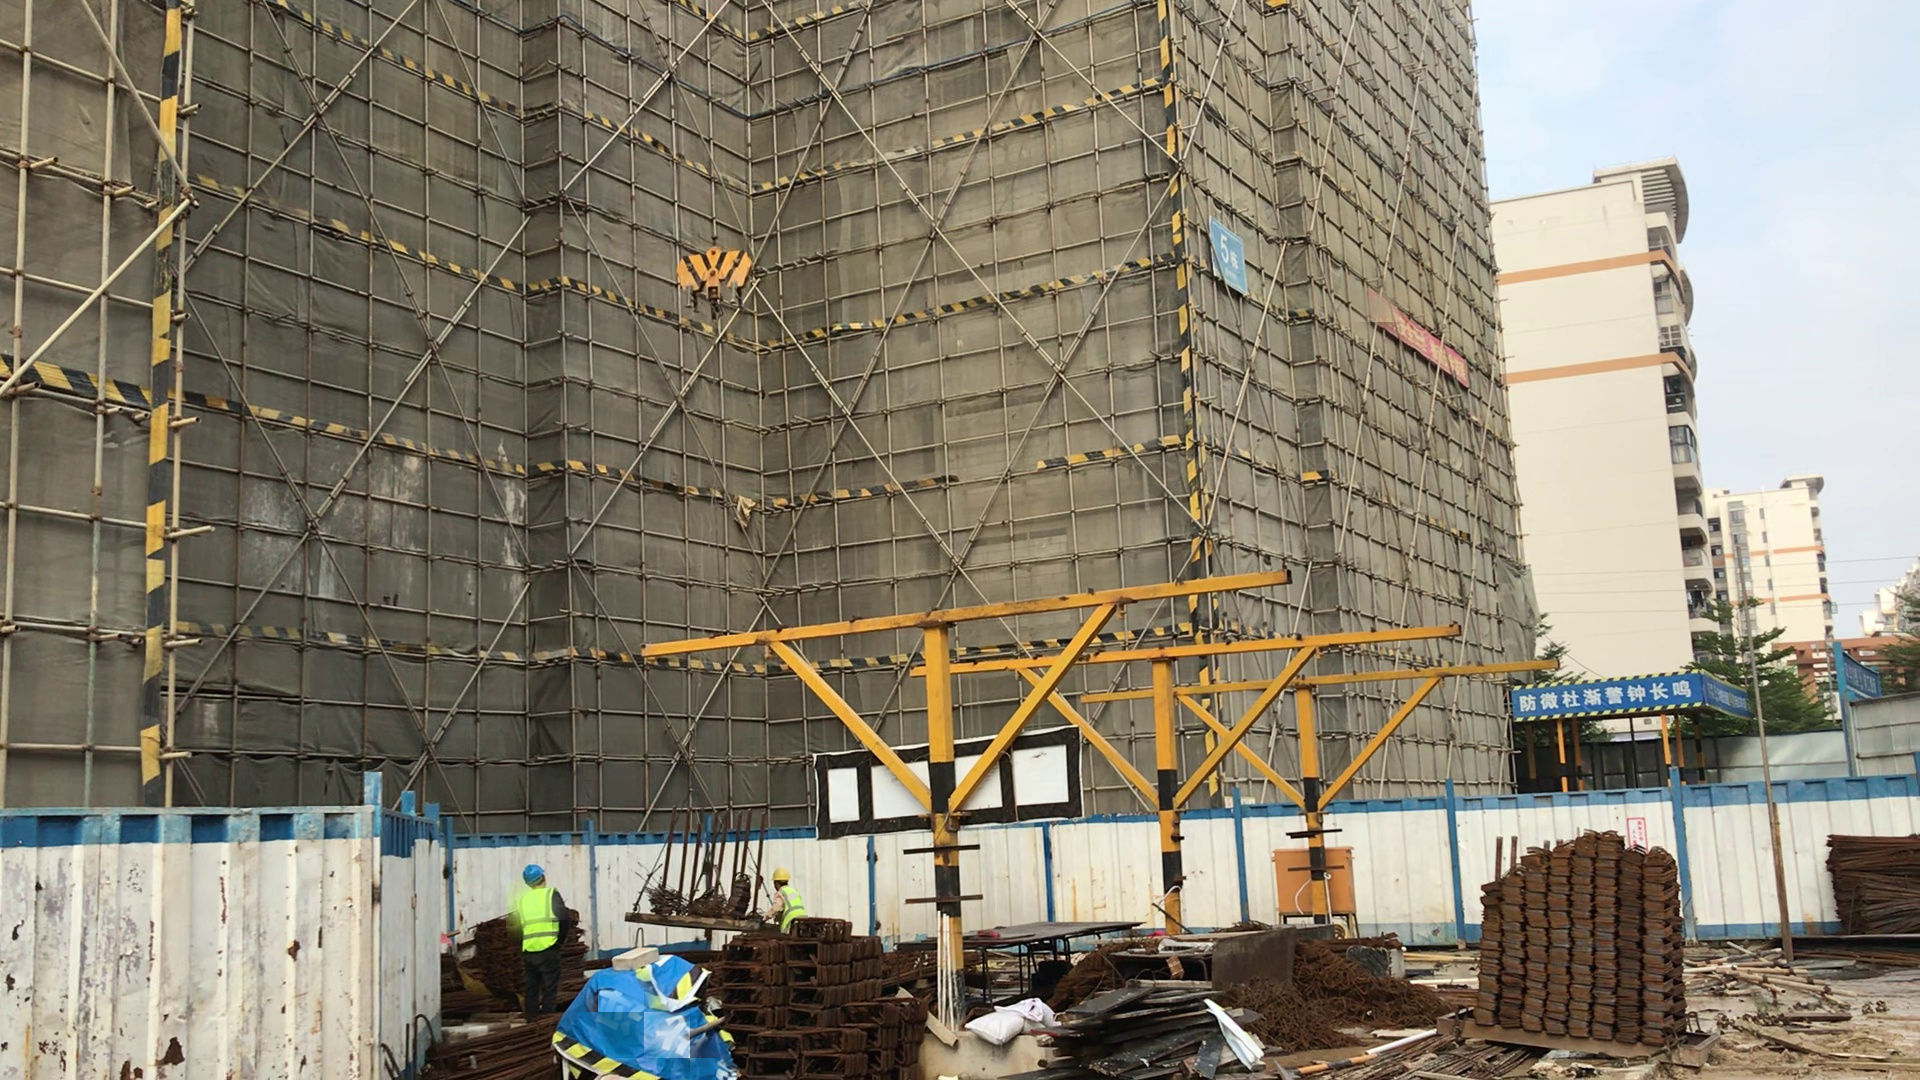helmet: (518, 858, 557, 890), (772, 868, 791, 883)
hook: (671, 241, 763, 306)
person: (504, 859, 574, 1026), (751, 863, 812, 937)
rebar: (1827, 824, 1912, 941), (435, 1025, 574, 1078)
slogan: (1511, 657, 1720, 741), (1382, 288, 1515, 410)
vest: (515, 889, 568, 958), (771, 886, 811, 936)
